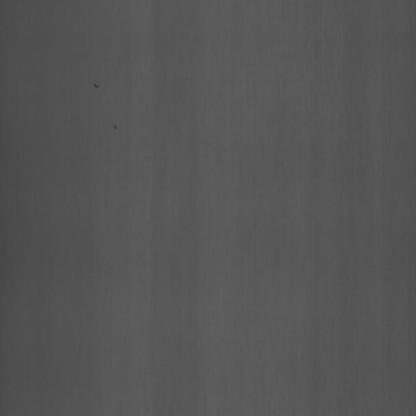inclusion: (108, 102, 121, 135), (89, 71, 103, 95)
